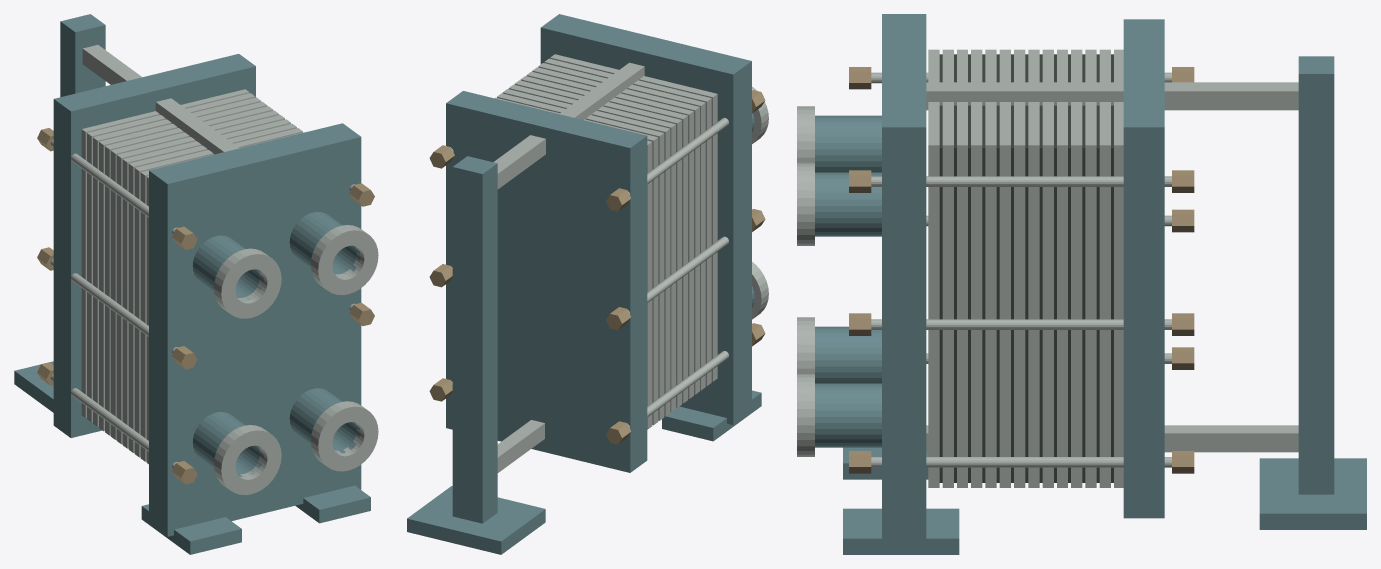
3 renders of one model, left to right at view 1: azimuth 30°, elevation 25°; view 2: azimuth 150°, elevation 25°; view 3: azimuth 270°, elevation 25°, orthographic. The views are drawn at different scales.
Parts seen in each view (by area): view 1: WholeFourBoreFixedFrontHead, WholeRearPressurePlate, WholeOpenFrontPortFlange1, WholeOpenFrontPortFlange0, WholeOpenFrontPortFlange3, WholeOpenFrontPortFlange2, WholeUpperPlateCarryingBar, WholeRearGuideSupportColumn, WholeClosePackPlate4, WholeClosePackPlate5, WholeClosePackPlate8, WholeClosePackPlate6 (+18 smaller); view 2: WholeRearPressurePlate, WholeFourBoreFixedFrontHead, WholeRearGuideSupportColumn, WholeRearColumnMountingFoot, WholeUpperPlateCarryingBar, WholeClosePackPlate0, WholeClosePackPlate1, WholeClosePackPlate9, WholeClosePackPlate8, WholeClosePackPlate7, WholeClosePackPlate2, WholeClosePackPlate3 (+12 smaller); view 3: WholeFourBoreFixedFrontHead, WholeRearPressurePlate, WholeRearGuideSupportColumn, WholeUpperPlateCarryingBar, WholeRearColumnMountingFoot, WholeClosePackPlate0, WholeClosePackPlate11, WholeClosePackPlate4, WholeClosePackPlate7, WholeClosePackPlate1, WholeClosePackPlate10, WholeClosePackPlate12 (+34 smaller).
Part boxes in pixels (x1,y1,x2,y2): WholeFourBoreFixedFrontHead: (149,123,361,536); WholeRearPressurePlate: (53,54,255,437); WholeOpenFrontPortFlange1: (214,248,281,318); WholeOpenFrontPortFlange0: (214,425,281,494); WholeOpenFrontPortFlange3: (310,225,378,294); WholeOpenFrontPortFlange2: (310,401,378,471); WholeUpperPlateCarryingBar: (82,45,238,154); WholeRearGuideSupportColumn: (60,14,105,97); WholeClosePackPlate4: (134,128,302,457); WholeClosePackPlate5: (128,123,296,452); WholeClosePackPlate8: (110,110,279,439); WholeClosePackPlate6: (122,119,290,448); WholeRearPressurePlate: (446,91,647,472); WholeFourBoreFixedFrontHead: (540,14,751,425); WholeRearGuideSupportColumn: (452,156,497,523); WholeRearColumnMountingFoot: (407,486,545,554); WholeUpperPlateCarryingBar: (493,62,644,189); WholeClosePackPlate0: (550,54,717,381); WholeClosePackPlate1: (544,58,711,385); WholeClosePackPlate9: (497,93,664,420); WholeClosePackPlate8: (502,89,670,416); WholeClosePackPlate7: (508,84,675,412); WholeClosePackPlate2: (538,63,705,390); WholeClosePackPlate3: (532,67,699,394); WholeFourBoreFixedFrontHead: (882,14,926,549); WholeRearPressurePlate: (1123,19,1164,518); WholeRearGuideSupportColumn: (1298,56,1334,494); WholeUpperPlateCarryingBar: (926,82,1298,110); WholeRearColumnMountingFoot: (1259,458,1366,529); WholeClosePackPlate0: (928,49,939,487); WholeClosePackPlate11: (1085,49,1096,487); WholeClosePackPlate4: (985,49,996,487); WholeClosePackPlate7: (1028,49,1039,487); WholeClosePackPlate1: (942,49,953,487); WholeClosePackPlate10: (1071,49,1082,487); WholeClosePackPlate12: (1099,49,1110,487).
Size of the model in its own units: 0.9 by 1.62 by 1.91.
